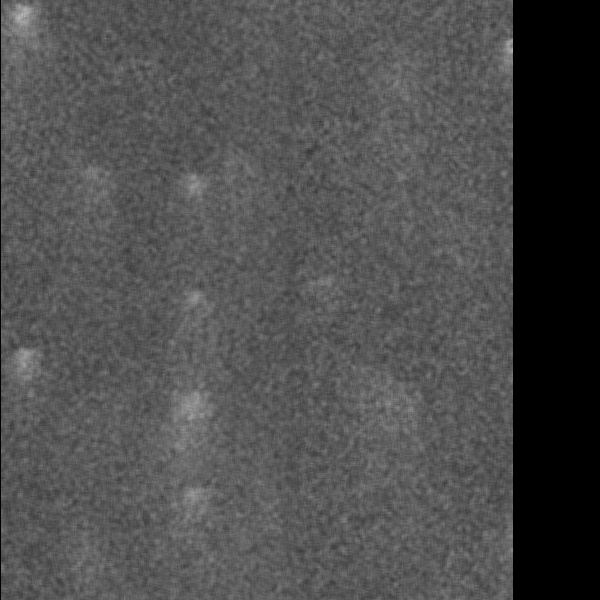spark: (10, 343, 40, 422), (3, 1, 40, 63), (77, 155, 106, 203), (177, 168, 208, 212), (172, 487, 210, 522), (176, 391, 204, 430), (372, 394, 396, 419), (184, 285, 203, 312)
